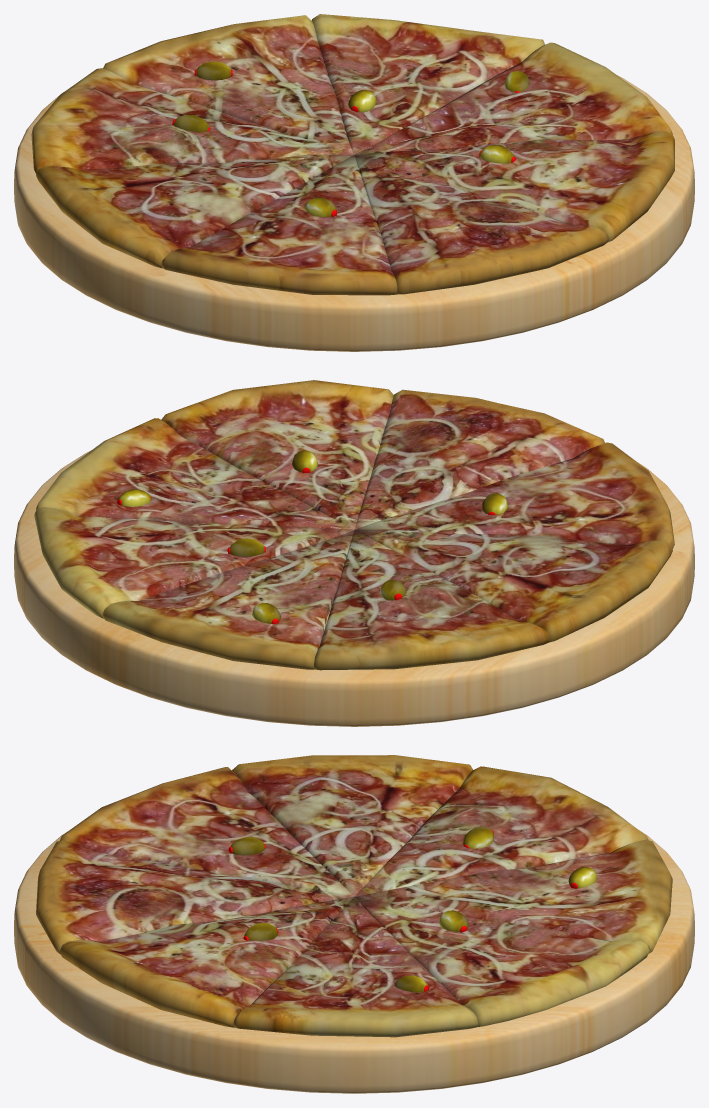
File: pizzee.glb
The picture shows the model from 3 angles, top to bottom: view 1: azimuth 30°, elevation 25°; view 2: azimuth 150°, elevation 25°; view 3: azimuth 270°, elevation 25°; orthographic projection.
Parts seen in each view (by area): view 1: Material3 (×2), Material2; view 2: Material3 (×2), Material2; view 3: Material3 (×2), Material2.
Part boxes in pixels (box(x1,y1,x2,y2)): Material3 (×2): box(14, 14, 694, 351); Material2: box(174, 61, 529, 216); Material3 (×2): box(14, 380, 694, 726); Material2: box(118, 450, 507, 623); Material3 (×2): box(14, 755, 694, 1093); Material2: box(231, 826, 597, 992).
Size of the model in its own units: 14.54 by 1.79 by 14.54.
5 materials, 3 textured.
